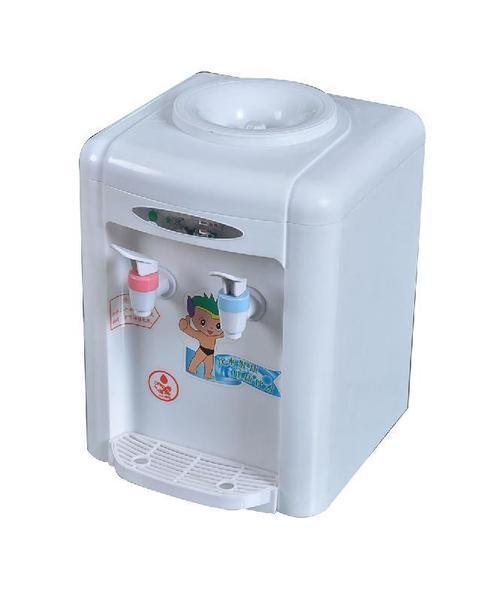Dispenser: (77, 69, 424, 518)
